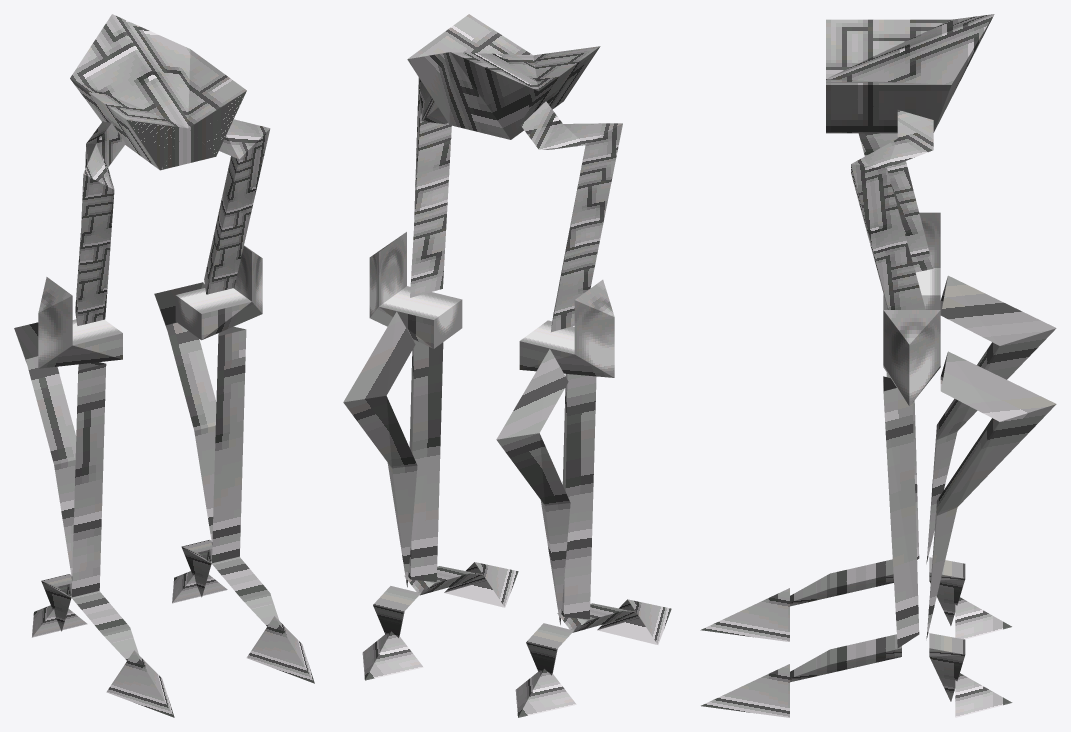
Rendered from FrameLegsSkel.glb.
3 views of the same model, side by side, from view 1: azimuth 30°, elevation 25°; view 2: azimuth 150°, elevation 25°; view 3: azimuth 270°, elevation 25° (orthographic). The views are drawn at different scales.
Visible parts, largest first — view 1: FrameLegsSkel_part00, FrameLegsSkel_part05, FrameLegsSkel_part02, FrameLegsSkel_part04, FrameLegsSkel_part03, FrameLegsSkel_part06, FrameLegsSkel_part01; view 2: FrameLegsSkel_part05, FrameLegsSkel_part02, FrameLegsSkel_part00, FrameLegsSkel_part04, FrameLegsSkel_part01, FrameLegsSkel_part06, FrameLegsSkel_part03; view 3: FrameLegsSkel_part02, FrameLegsSkel_part00, FrameLegsSkel_part05, FrameLegsSkel_part03, FrameLegsSkel_part01, FrameLegsSkel_part06, FrameLegsSkel_part04.
Boxes of the visible parts, left/top/right/bottom form: FrameLegsSkel_part00: left=70, top=14, right=246, bottom=170; FrameLegsSkel_part05: left=14, top=277, right=122, bottom=597; FrameLegsSkel_part02: left=154, top=245, right=262, bottom=563; FrameLegsSkel_part04: left=75, top=121, right=125, bottom=325; FrameLegsSkel_part03: left=172, top=540, right=314, bottom=683; FrameLegsSkel_part06: left=32, top=574, right=174, bottom=717; FrameLegsSkel_part01: left=204, top=119, right=270, bottom=294; FrameLegsSkel_part05: left=496, top=279, right=614, bottom=624; FrameLegsSkel_part02: left=343, top=232, right=462, bottom=587; FrameLegsSkel_part00: left=407, top=14, right=600, bottom=139; FrameLegsSkel_part04: left=521, top=101, right=622, bottom=332; FrameLegsSkel_part01: left=410, top=77, right=451, bottom=297; FrameLegsSkel_part06: left=515, top=599, right=671, bottom=717; FrameLegsSkel_part03: left=362, top=562, right=518, bottom=680; FrameLegsSkel_part02: left=883, top=310, right=1056, bottom=648; FrameLegsSkel_part00: left=826, top=14, right=994, bottom=133; FrameLegsSkel_part05: left=883, top=212, right=1056, bottom=563; FrameLegsSkel_part03: left=701, top=633, right=1012, bottom=717; FrameLegsSkel_part01: left=851, top=110, right=933, bottom=309; FrameLegsSkel_part06: left=700, top=557, right=1011, bottom=641; FrameLegsSkel_part04: left=858, top=133, right=933, bottom=272.
Bounding box in the file's own units: 8 × 20.1 × 9.93.
Materials: 2 (2 with a texture image).
